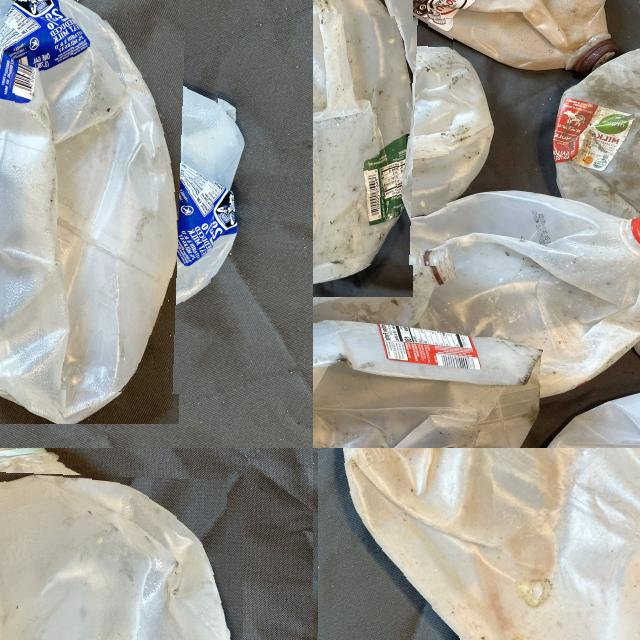milk-jug: (0, 13, 217, 391), (319, 448, 640, 640), (0, 448, 225, 640), (447, 188, 640, 391), (313, 11, 451, 263), (313, 328, 530, 448), (313, 207, 459, 374), (549, 27, 640, 245), (366, 0, 616, 70)
